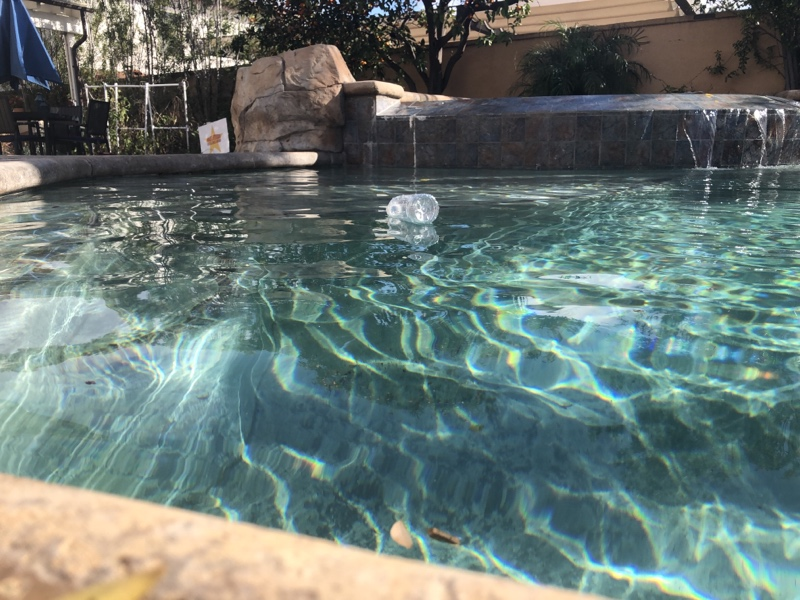Plastic Bottle: (382, 191, 439, 228)
